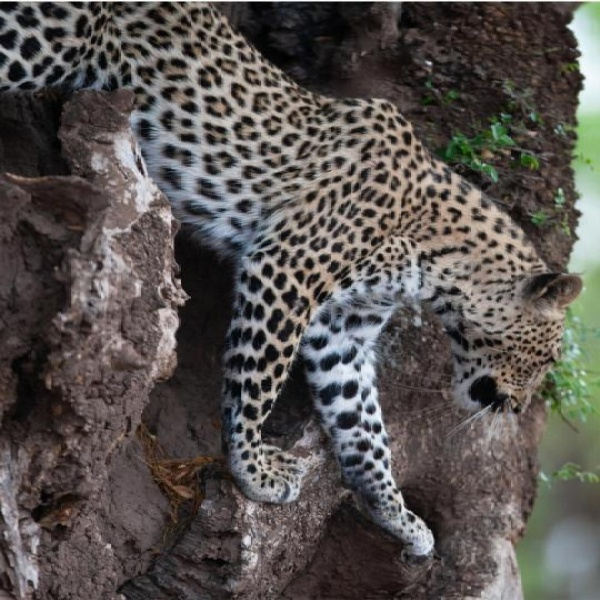Leopard: (3, 4, 589, 567)
